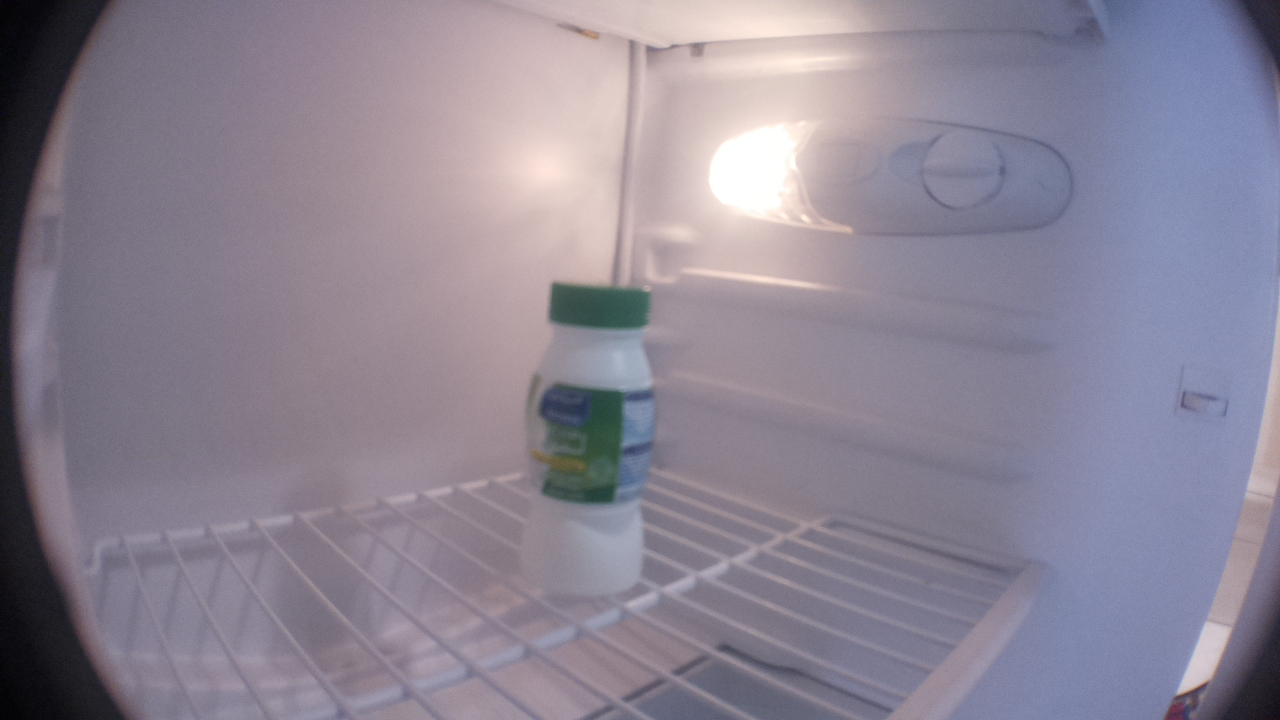laban: (526, 277, 657, 603)
